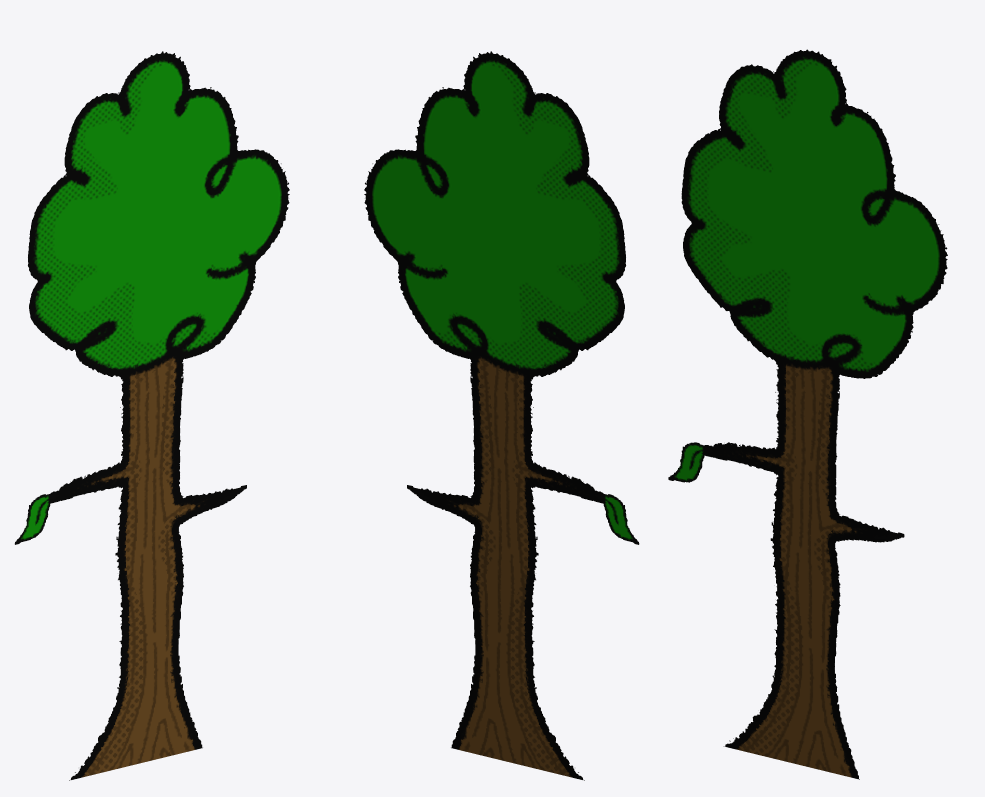
File: Tree1.fbx
The picture shows the model from 3 angles, left to right: view 1: azimuth 30°, elevation 25°; view 2: azimuth 150°, elevation 25°; view 3: azimuth 330°, elevation 25°; orthographic projection.
Parts seen in each view (by area): view 1: Tree1; view 2: Tree1; view 3: Tree1.
Boxes of the visible parts, bbox=[...] form: Tree1: bbox=[14, 51, 289, 780]; Tree1: bbox=[364, 51, 639, 780]; Tree1: bbox=[668, 49, 947, 779].
Bounding box in the file's own units: 176 × 400 × 3.02e-05.
